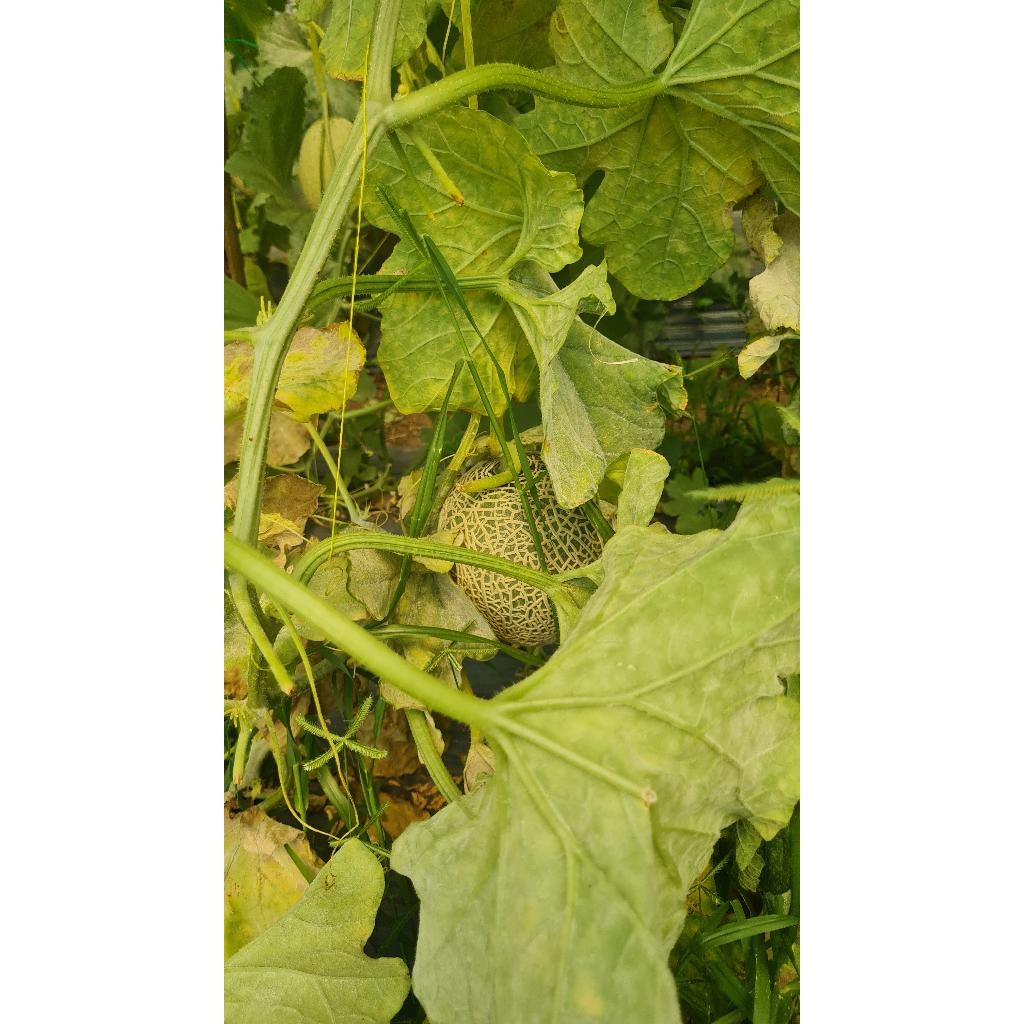melon: (438, 482, 540, 570), (452, 564, 556, 646), (530, 476, 602, 574), (462, 458, 496, 482)
